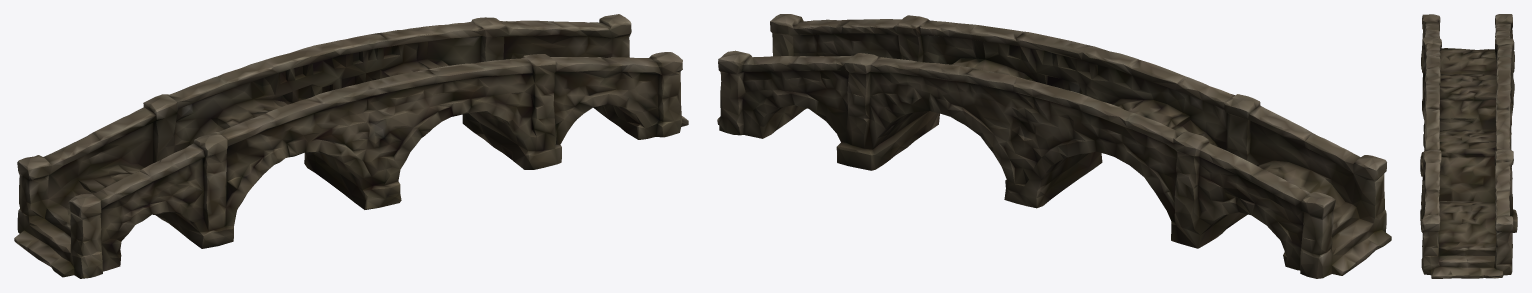
File: lib_stone_bridge.vc.glb
The picture shows the model from 3 angles, left to right: view 1: azimuth 30°, elevation 25°; view 2: azimuth 150°, elevation 25°; view 3: azimuth 270°, elevation 25°; orthographic projection. The views are drawn at different scales.
Visible parts, largest first — view 1: lib_stone_bridge; view 2: lib_stone_bridge; view 3: lib_stone_bridge.
Part boxes in pixels (bbox=[...]): lib_stone_bridge: bbox=[14, 14, 688, 278]; lib_stone_bridge: bbox=[717, 14, 1391, 278]; lib_stone_bridge: bbox=[1420, 14, 1517, 278].
Bounding box in the file's own units: 1.9 × 0.3414 × 0.3597.
